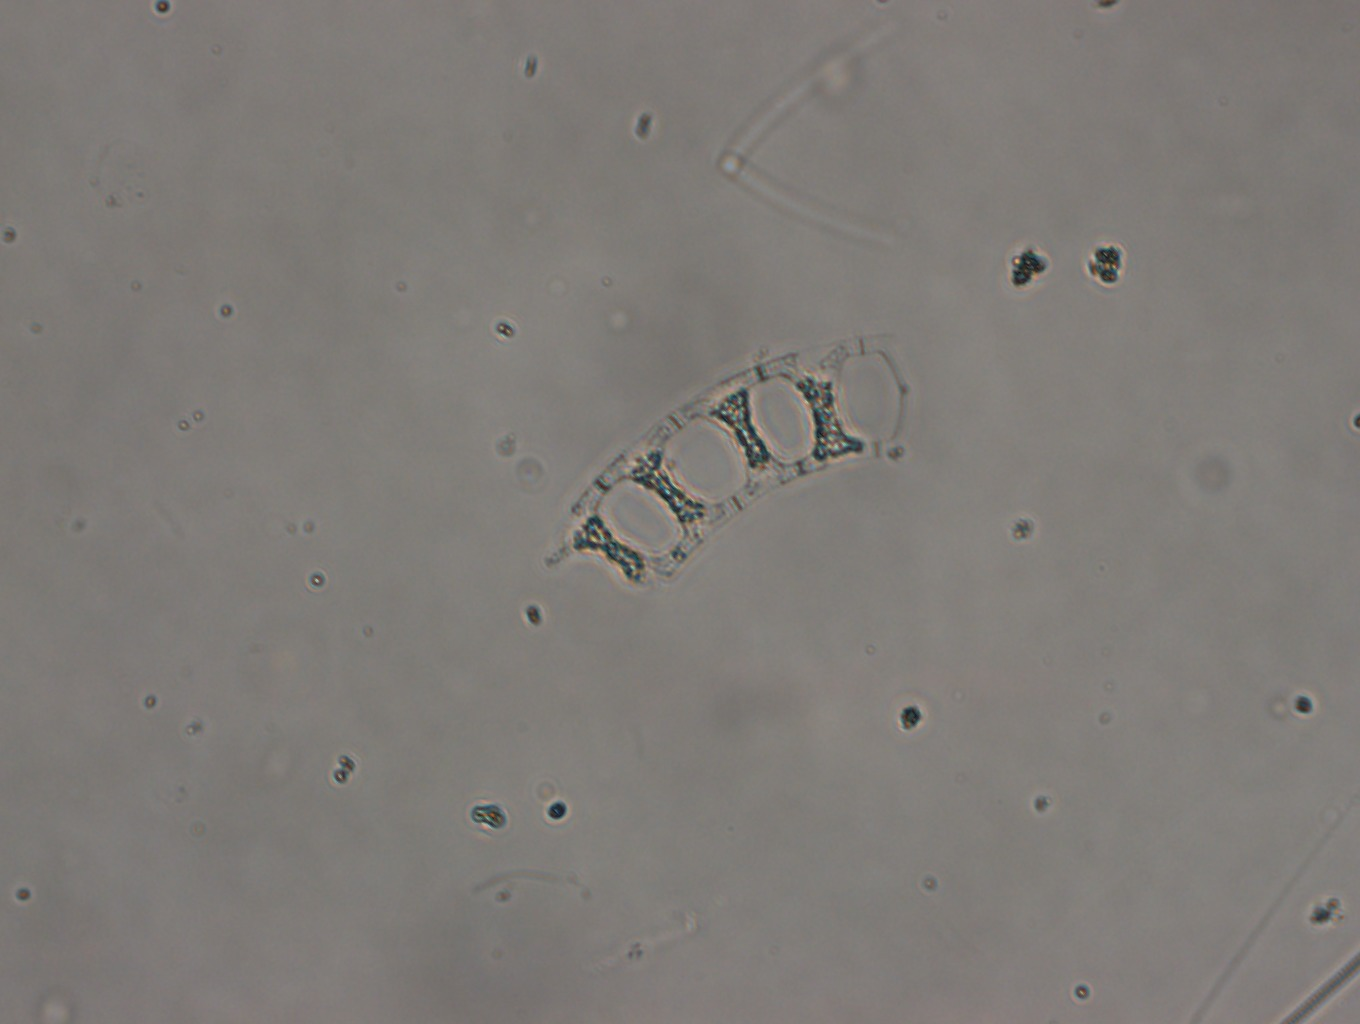eucampia: (553, 338, 929, 599)
